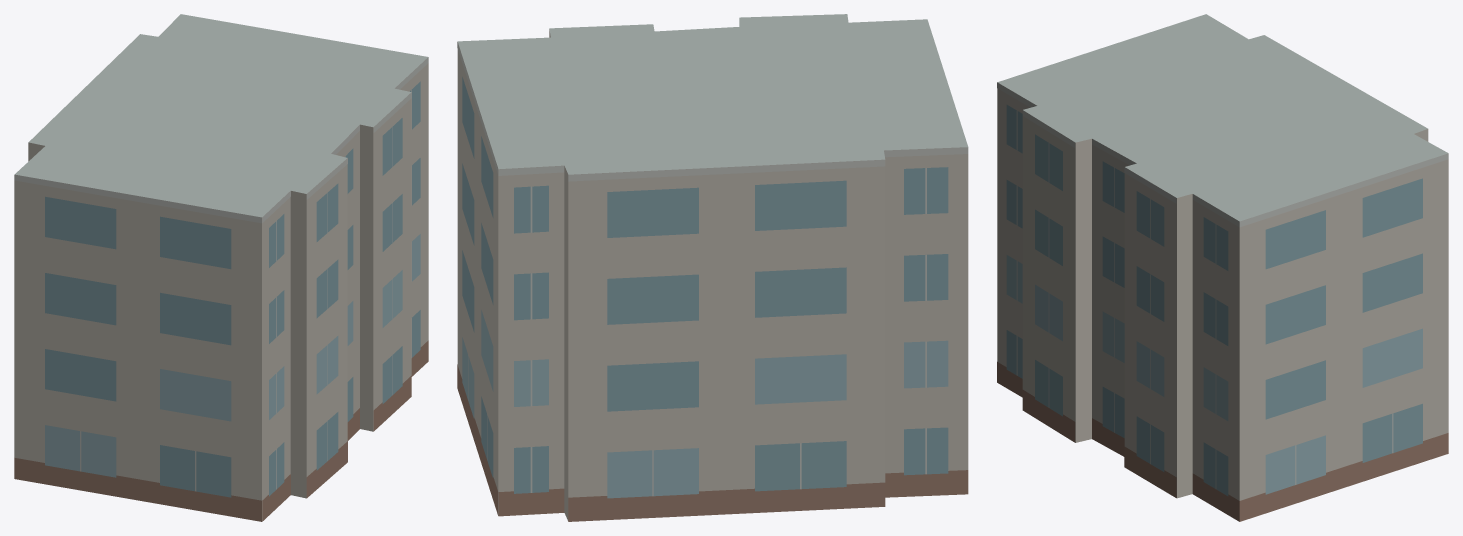
File: survey-upis-32779641.glb
3 renders of one model, left to right at view 1: azimuth 30°, elevation 25°; view 2: azimuth 150°, elevation 25°; view 3: azimuth 270°, elevation 25°, orthographic. The views are drawn at different scales.
Visible parts, largest first — view 1: survey-upis-32779641.tmp; view 2: survey-upis-32779641.tmp; view 3: survey-upis-32779641.tmp.
Part boxes in pixels (x1=…): survey-upis-32779641.tmp: x1=14, y1=14, x2=428, y2=521; survey-upis-32779641.tmp: x1=457, y1=14, x2=968, y2=521; survey-upis-32779641.tmp: x1=997, y1=14, x2=1448, y2=521.
Bounding box in the file's own units: 18.38 × 12.4 × 16.9.
